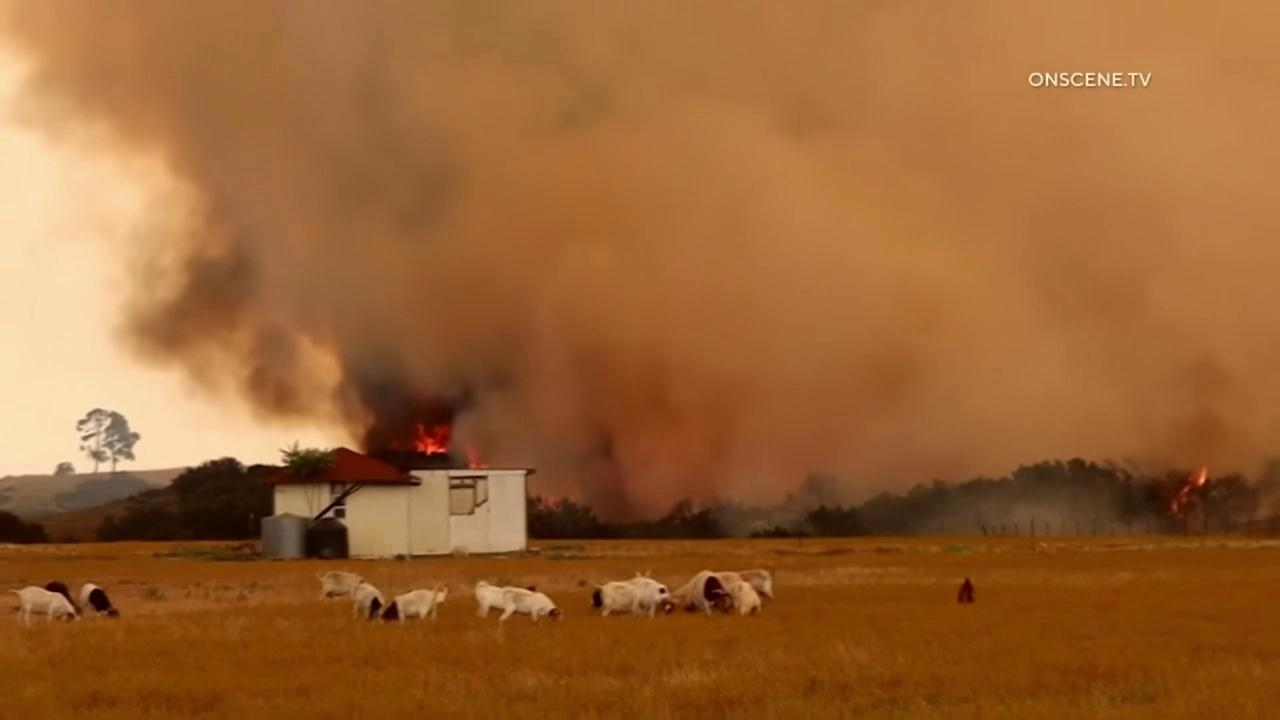fire: (411, 421, 451, 456), (464, 439, 489, 469), (1169, 484, 1193, 514), (1197, 463, 1209, 487)
smoke: (0, 0, 1280, 536)
